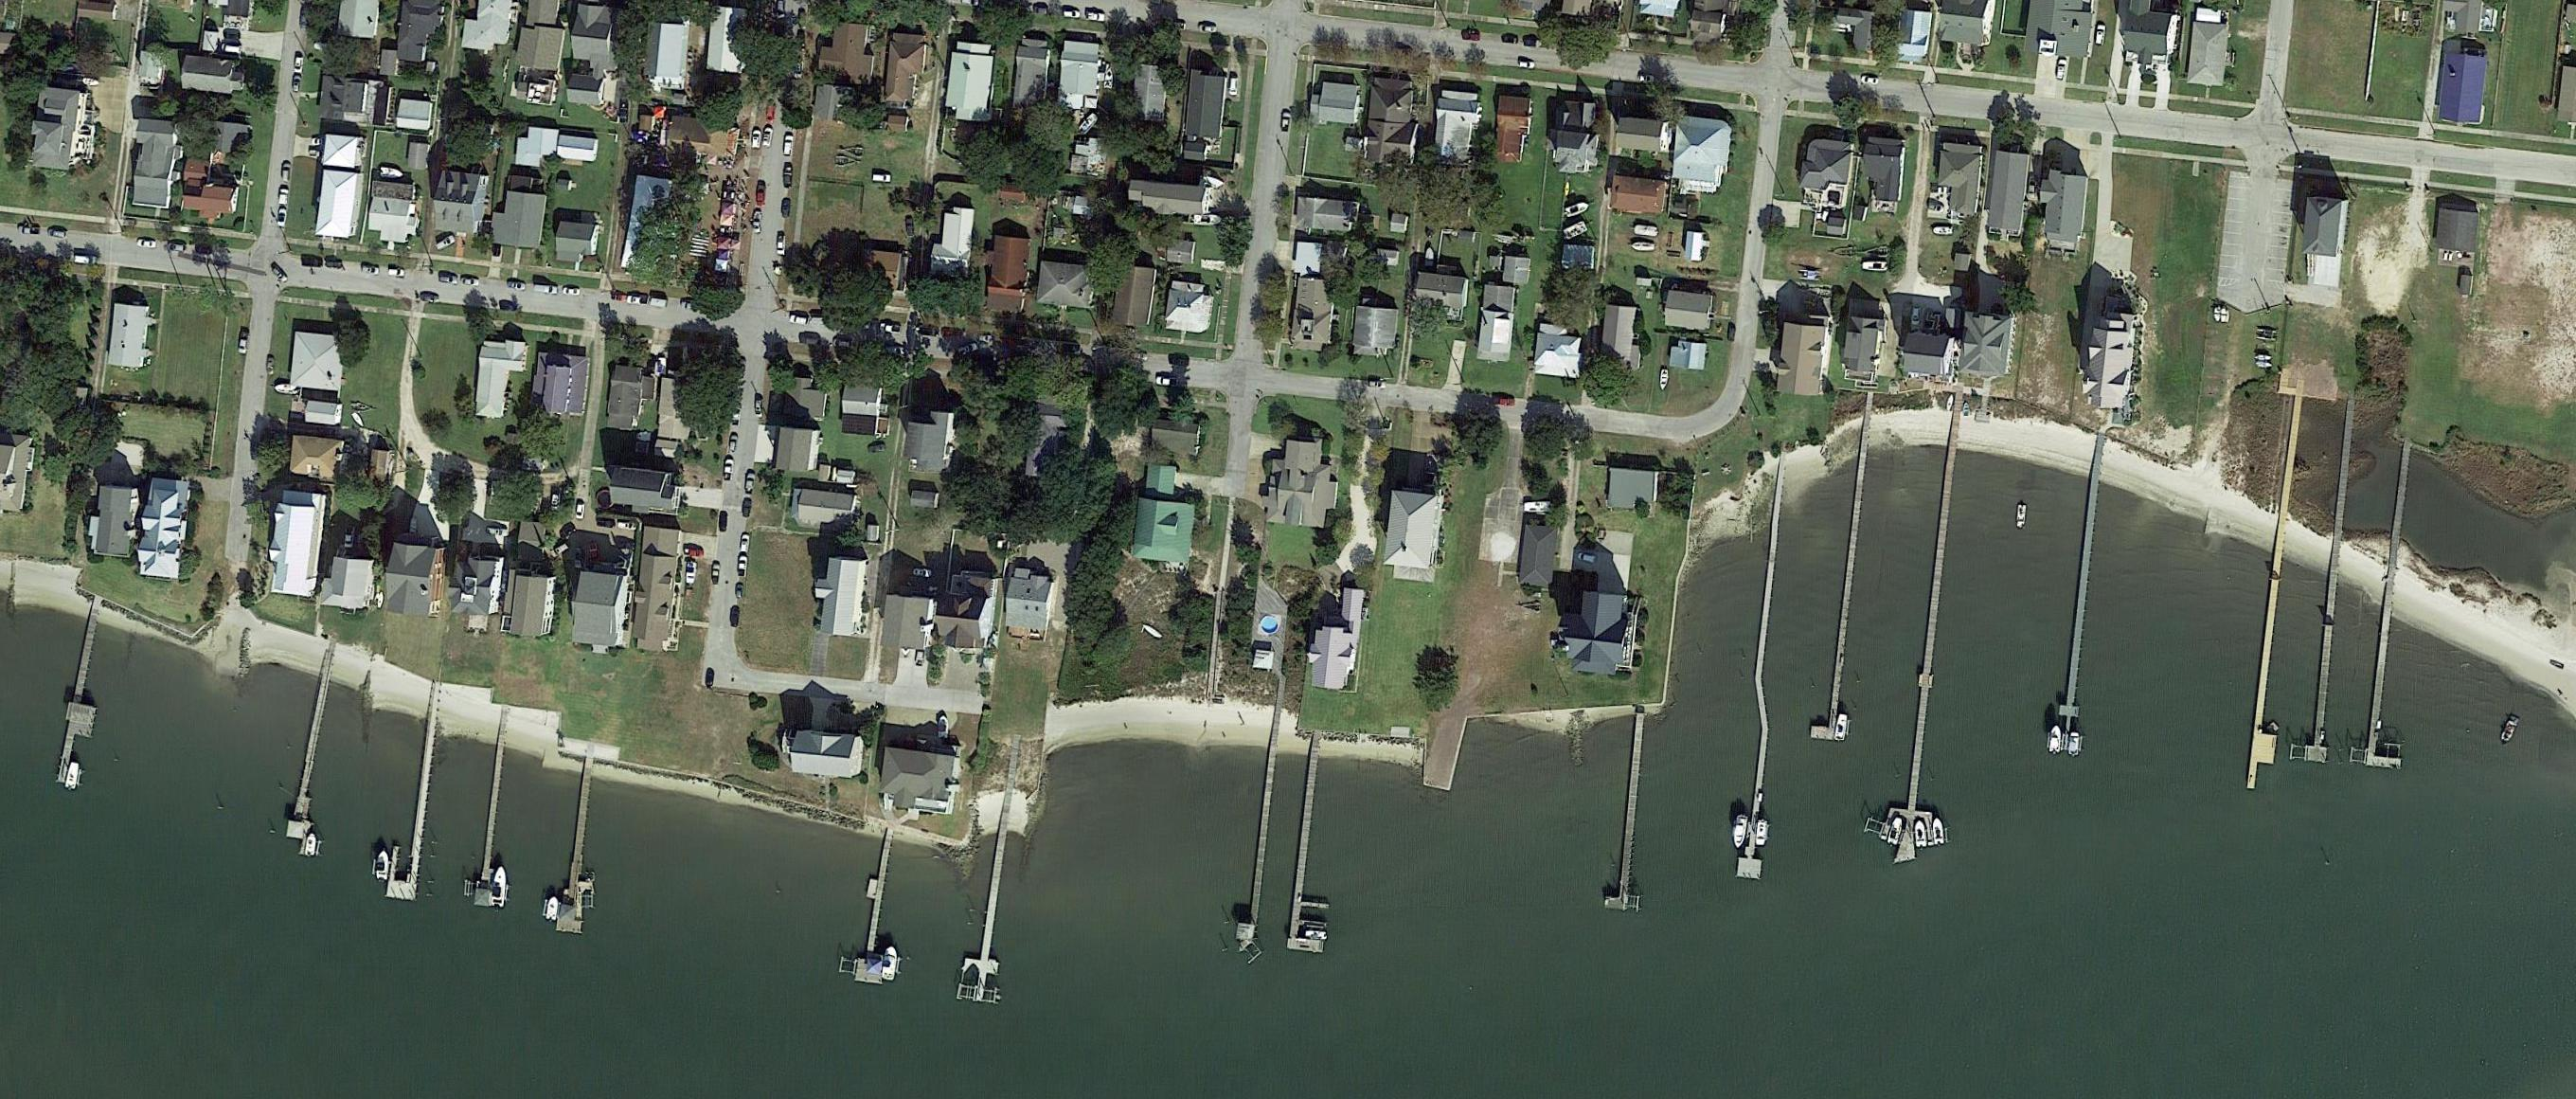harbor: (1874, 412, 1991, 869), (1720, 481, 1809, 881), (2244, 404, 2315, 795), (2362, 444, 2431, 769), (2303, 407, 2362, 764), (1809, 421, 1873, 739), (2054, 444, 2109, 752), (958, 795, 1027, 1007), (384, 680, 445, 902), (1288, 744, 1345, 954), (53, 606, 118, 789), (283, 655, 342, 854), (1232, 738, 1280, 954), (475, 708, 517, 908), (1605, 718, 1644, 912), (557, 764, 601, 935), (854, 838, 905, 986)
ship: (1730, 812, 1751, 851), (491, 866, 509, 908), (881, 946, 900, 982), (1559, 220, 1589, 241), (2499, 715, 2520, 744), (1886, 816, 1906, 848), (1562, 199, 1590, 220), (1076, 110, 1099, 135), (375, 848, 391, 882), (2045, 724, 2063, 756), (544, 894, 562, 923), (64, 762, 80, 792), (1930, 816, 1945, 848), (1912, 818, 1927, 849), (1193, 212, 1222, 227), (378, 166, 404, 182), (2256, 325, 2279, 343), (273, 383, 301, 398), (936, 715, 950, 741), (1631, 223, 1658, 237), (1303, 928, 1329, 941), (1525, 503, 1554, 514), (683, 562, 698, 585), (2014, 504, 2027, 529), (2067, 733, 2080, 757), (1755, 821, 1768, 846), (306, 833, 319, 858), (1837, 715, 1848, 743), (1101, 67, 1114, 90), (1658, 368, 1671, 391), (1630, 240, 1656, 251), (350, 411, 366, 429), (1797, 269, 1820, 281), (1861, 261, 1888, 271), (1932, 225, 1953, 237), (1424, 245, 1434, 269), (80, 77, 100, 89), (2254, 352, 2272, 363), (375, 591, 384, 609), (2256, 360, 2274, 370)
